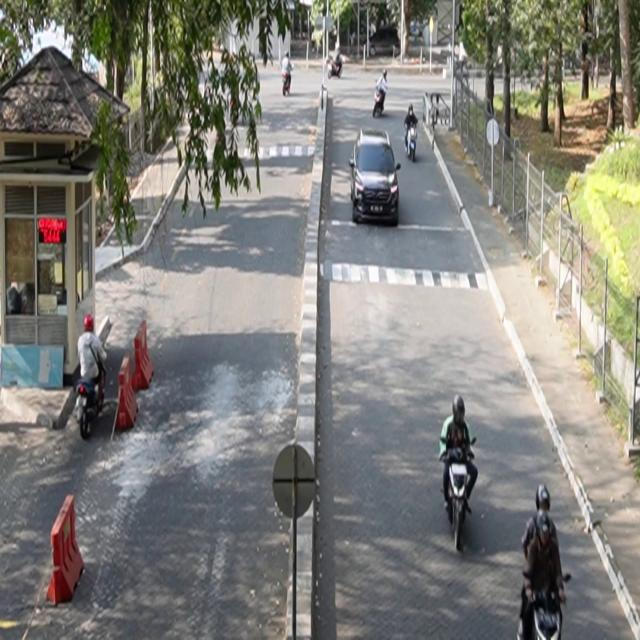car: (349, 128, 402, 227)
